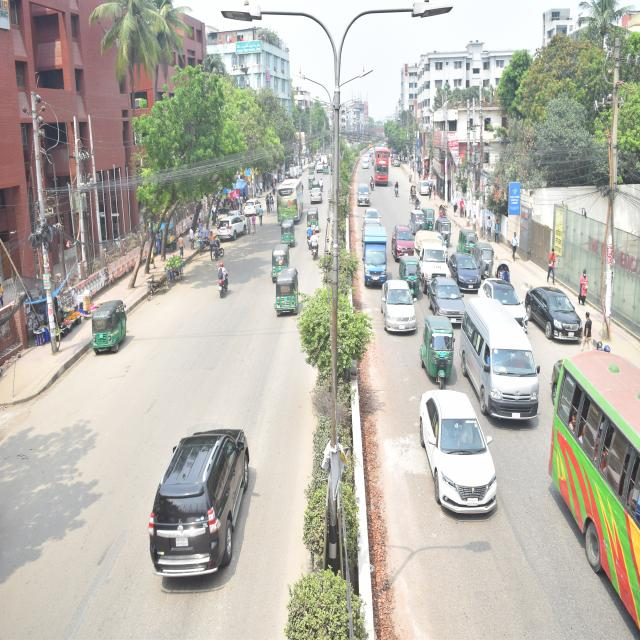bus: (542, 333, 640, 640), (372, 145, 396, 201)
car: (129, 401, 265, 594), (414, 372, 513, 564), (527, 272, 588, 355), (381, 270, 423, 360), (479, 268, 529, 338), (424, 274, 473, 335), (212, 208, 248, 253), (448, 246, 476, 298), (390, 216, 419, 266), (415, 170, 442, 207), (239, 188, 264, 222), (354, 178, 374, 210), (360, 208, 385, 233), (306, 182, 324, 212), (358, 151, 373, 174), (312, 160, 328, 175)
microbus: (456, 287, 550, 420)
motorbike: (212, 250, 238, 298), (307, 228, 323, 269), (390, 175, 406, 210), (298, 220, 318, 243), (367, 167, 378, 200), (315, 171, 328, 197)
pickup-van: (418, 224, 460, 295), (360, 217, 394, 286), (288, 163, 303, 184)
